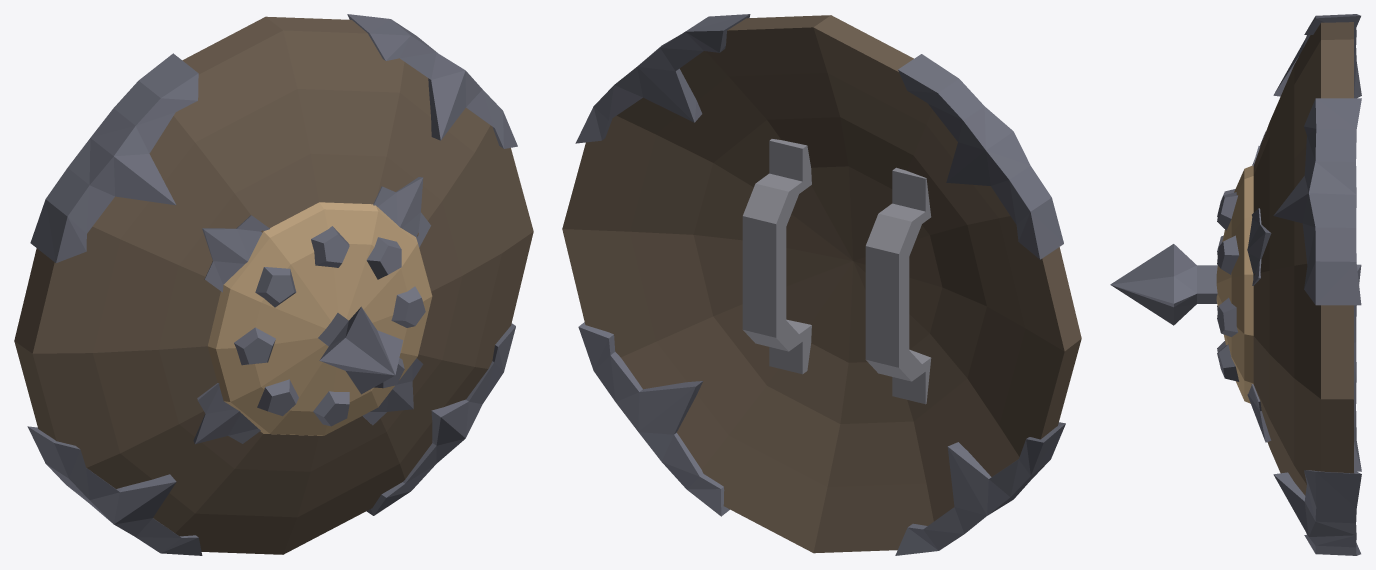
File: _shield_2.fbx
3 renders of one model, left to right at view 1: azimuth 30°, elevation 25°; view 2: azimuth 150°, elevation 25°; view 3: azimuth 270°, elevation 25°, orthographic. The views are drawn at different scales.
Parts seen in each view (by area): view 1: shield_2; view 2: shield_2; view 3: shield_2.
Part boxes in pixels (box(x1,y1,x2,y2)): shield_2: box(14, 14, 533, 555); shield_2: box(562, 14, 1081, 555); shield_2: box(1110, 14, 1361, 555).
Size of the model in its own units: 63.68 by 63.68 by 29.6.
